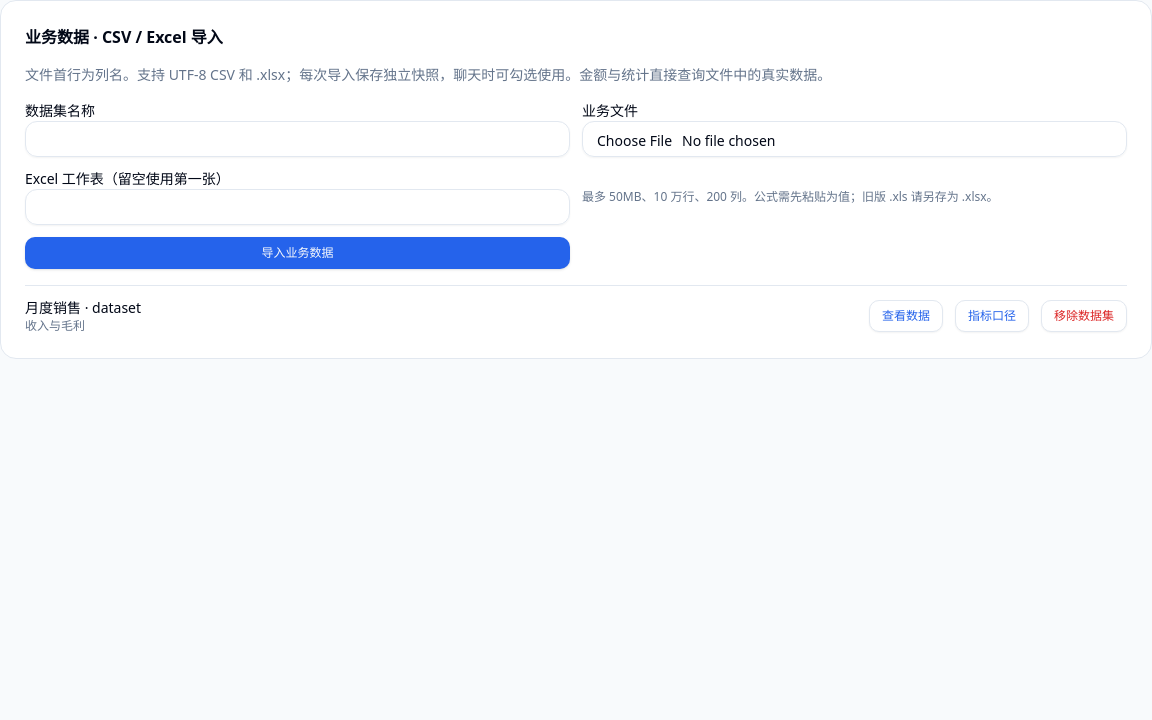
Scenario: business data controls › keeps the deletion dialog open with a readable error when removal fails
This screenshot has width=1152, height=720.
Click the button "移除数据集" at coordinates (1084, 316), box [1041,300,1127,332]
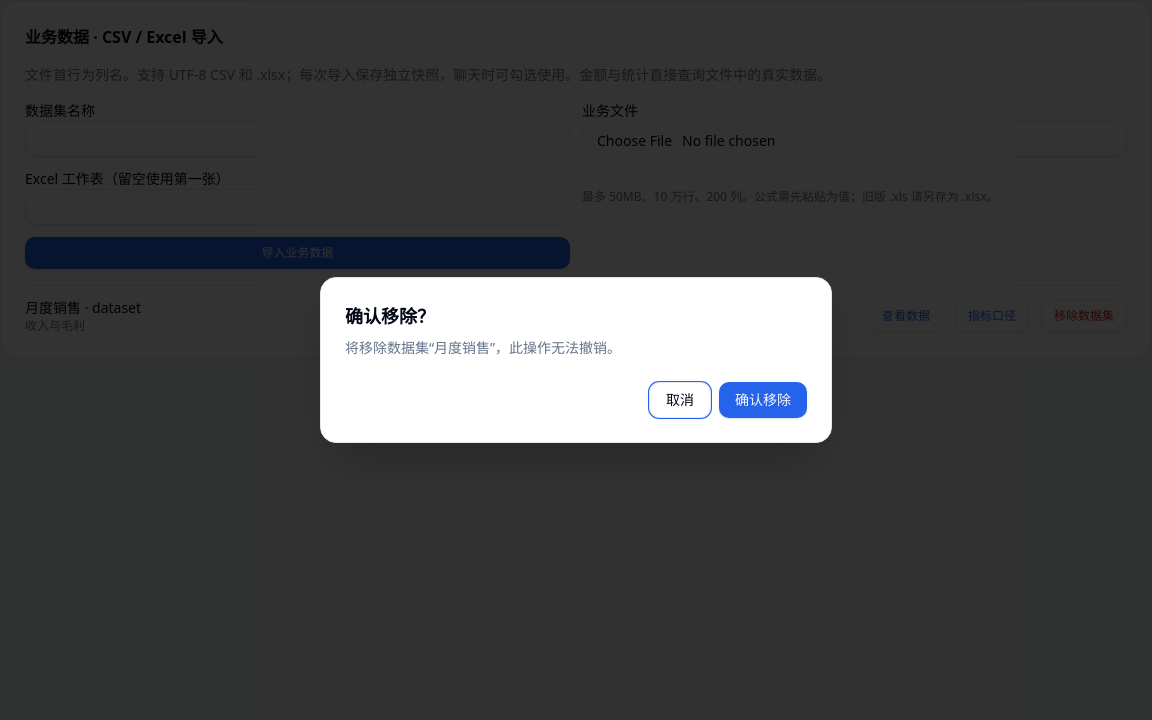
Click the button "确认移除" at coordinates (763, 400), box [719,382,807,418]
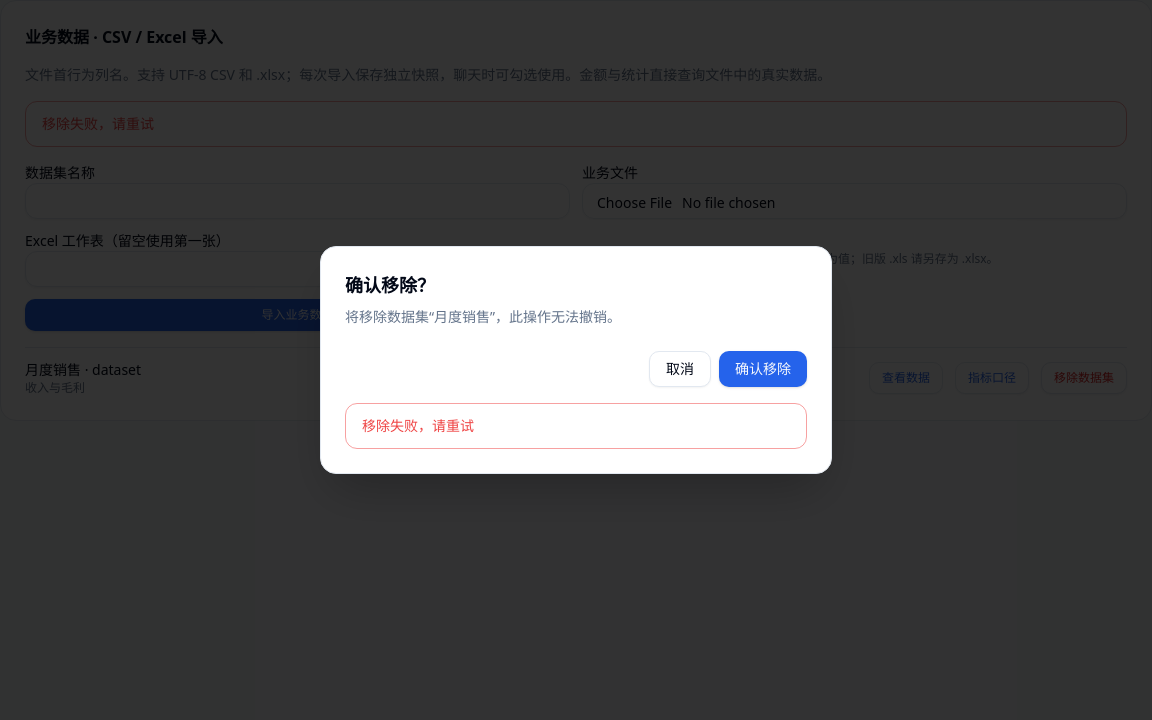
Expected: the message reads "移除失败，请重试", [362,416,474,435]
